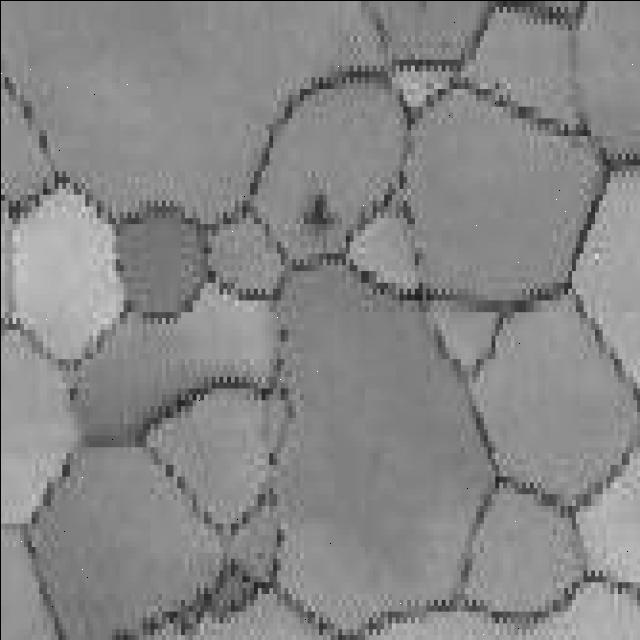good_void: (300, 190, 338, 234)
